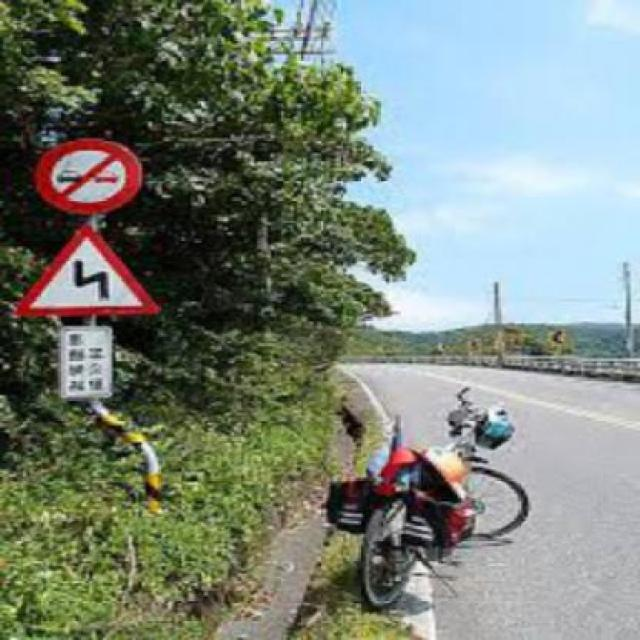warn_double_curve: (15, 216, 163, 322)
